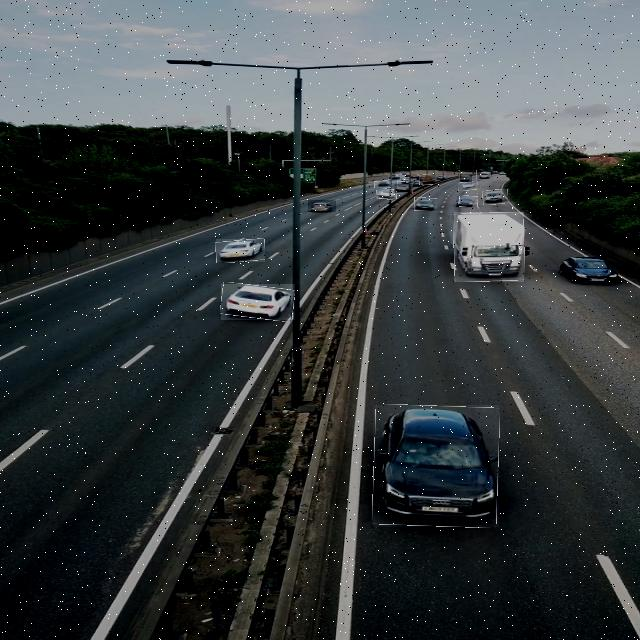Car: (373, 405, 499, 527), (221, 284, 295, 320), (216, 239, 265, 262), (483, 189, 508, 205), (308, 200, 336, 212), (414, 198, 437, 211), (377, 189, 397, 199), (460, 196, 478, 207), (397, 183, 413, 194), (458, 182, 478, 190), (394, 184, 412, 192), (388, 176, 406, 183), (374, 181, 391, 188), (459, 173, 472, 182)
Truck: (454, 212, 524, 282), (476, 170, 493, 182), (419, 174, 436, 185)
